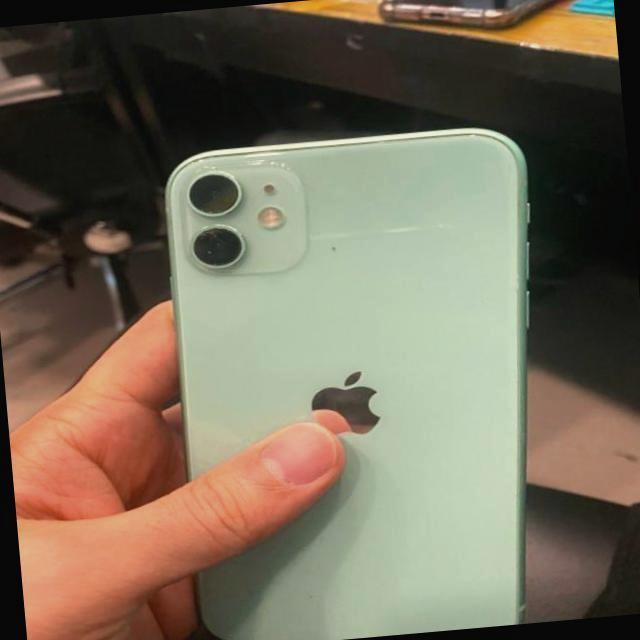phone: (160, 117, 536, 626)
